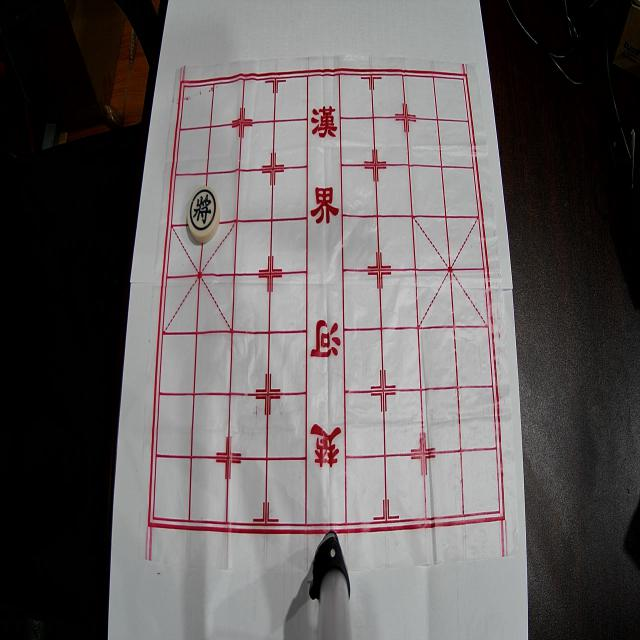black-general: (187, 185, 220, 242)
